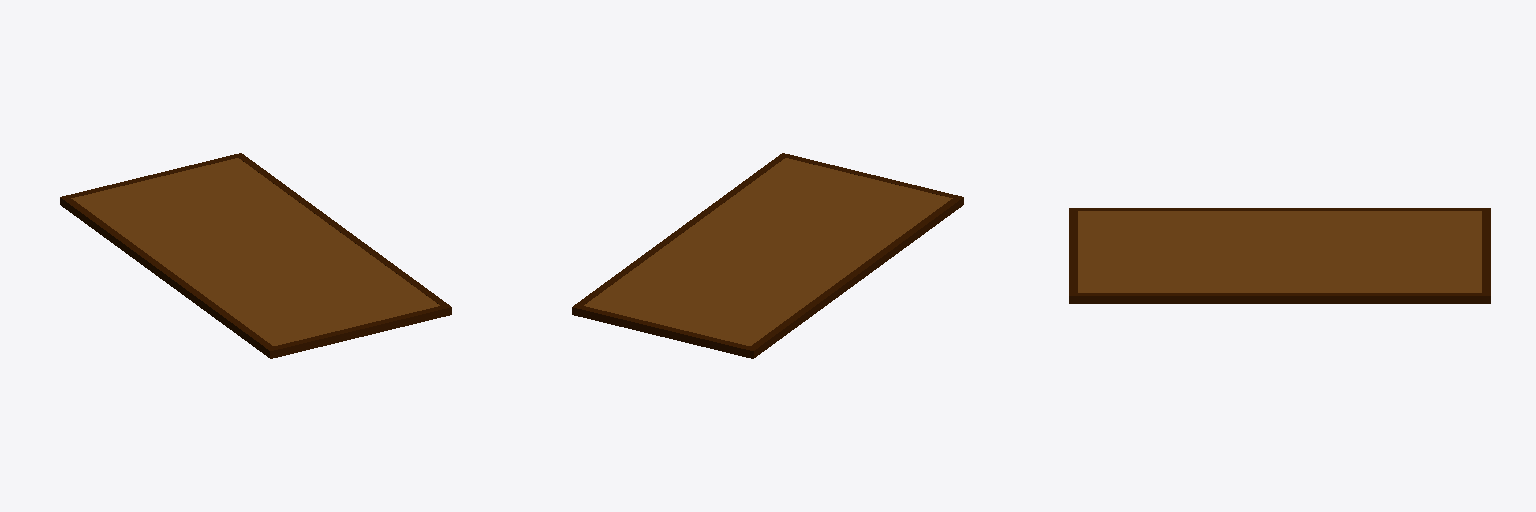
File: carpet.obj
The picture shows the model from 3 angles: view 1: azimuth 30°, elevation 25°; view 2: azimuth 150°, elevation 25°; view 3: azimuth 270°, elevation 25°; orthographic projection.
Visible parts, largest first — view 1: carpet_Cube.004; view 2: carpet_Cube.004; view 3: carpet_Cube.004.
Part boxes in pixels (bbox=[...]): carpet_Cube.004: bbox=[60, 153, 451, 358]; carpet_Cube.004: bbox=[572, 153, 963, 358]; carpet_Cube.004: bbox=[1069, 208, 1490, 303].
Bounding box in the file's own units: 5 × 0.204 × 10.04.